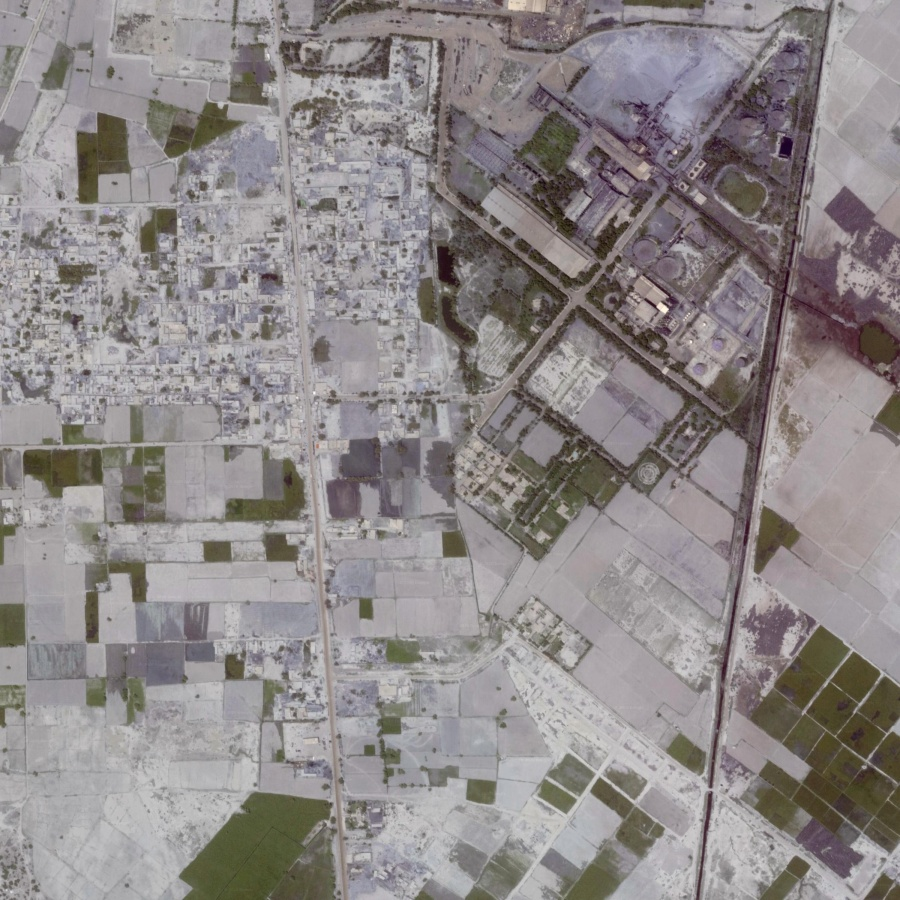PowerPlant: (579, 166, 769, 384)
